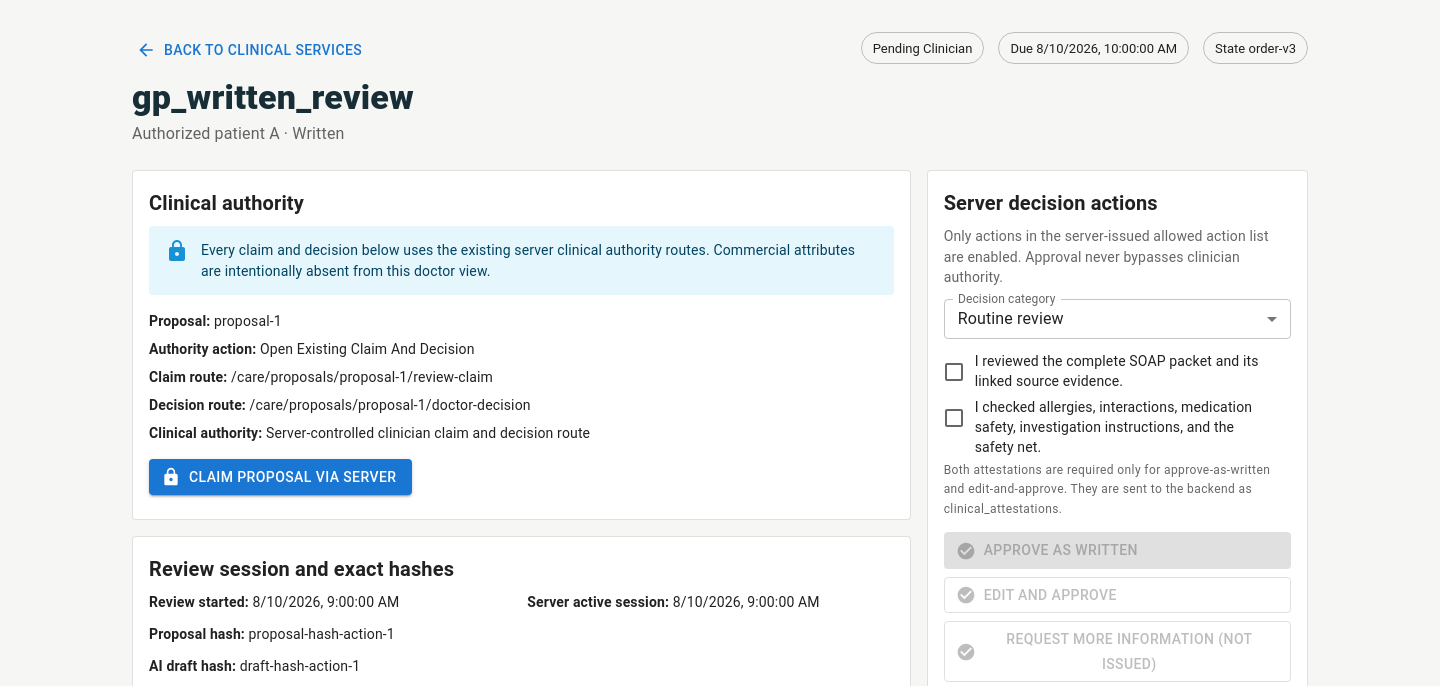
Test: DoctorClinicalServiceDetail › links approval to the existing decision route and sends exact server hashes
Check: the text "proposal-hash-action-1" is shown, box 249,626 -> 395,642
Check: the button "Approve As Written" is disabled, box 944,532 -> 1291,569
Click the checkbox labelled "reviewed the complete SOAP packet": (1104, 372) 933,350 -> 1275,392
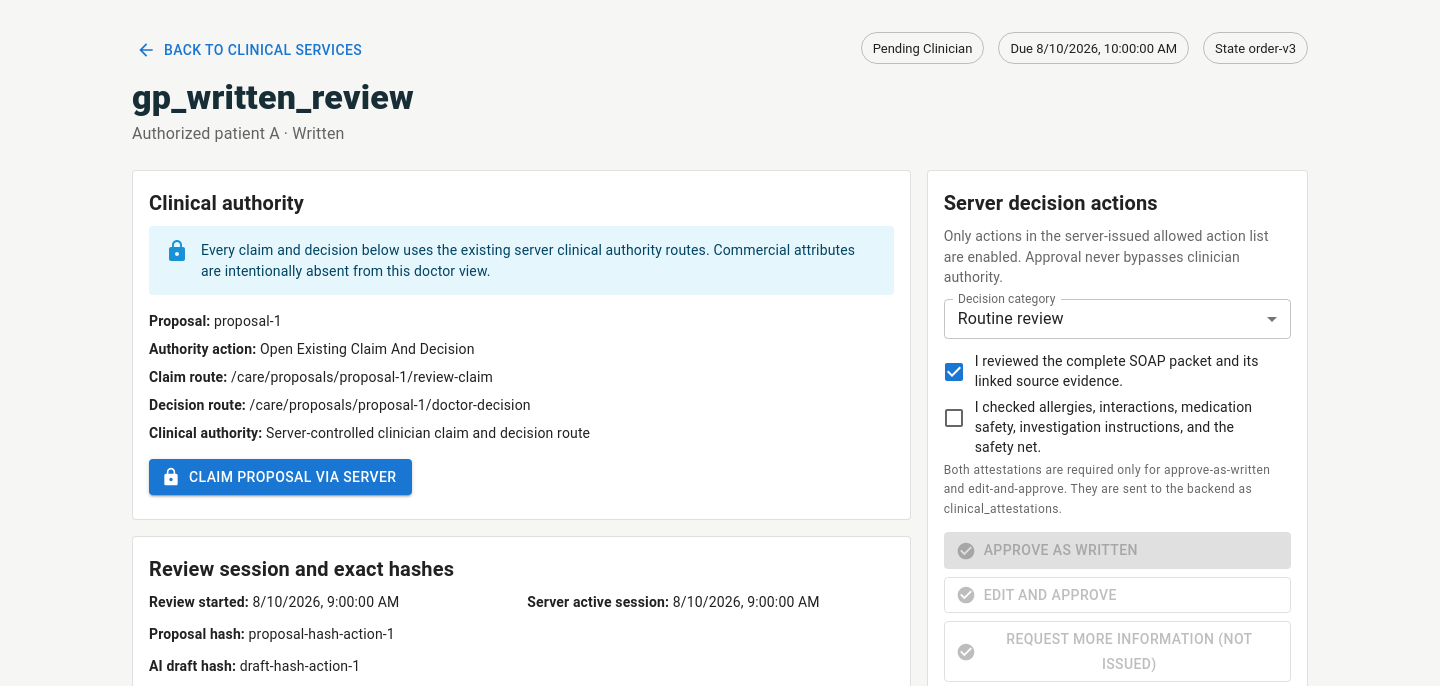
Click the checkbox labelled "checked allergies, interactions": (1104, 426) 933,396 -> 1275,456
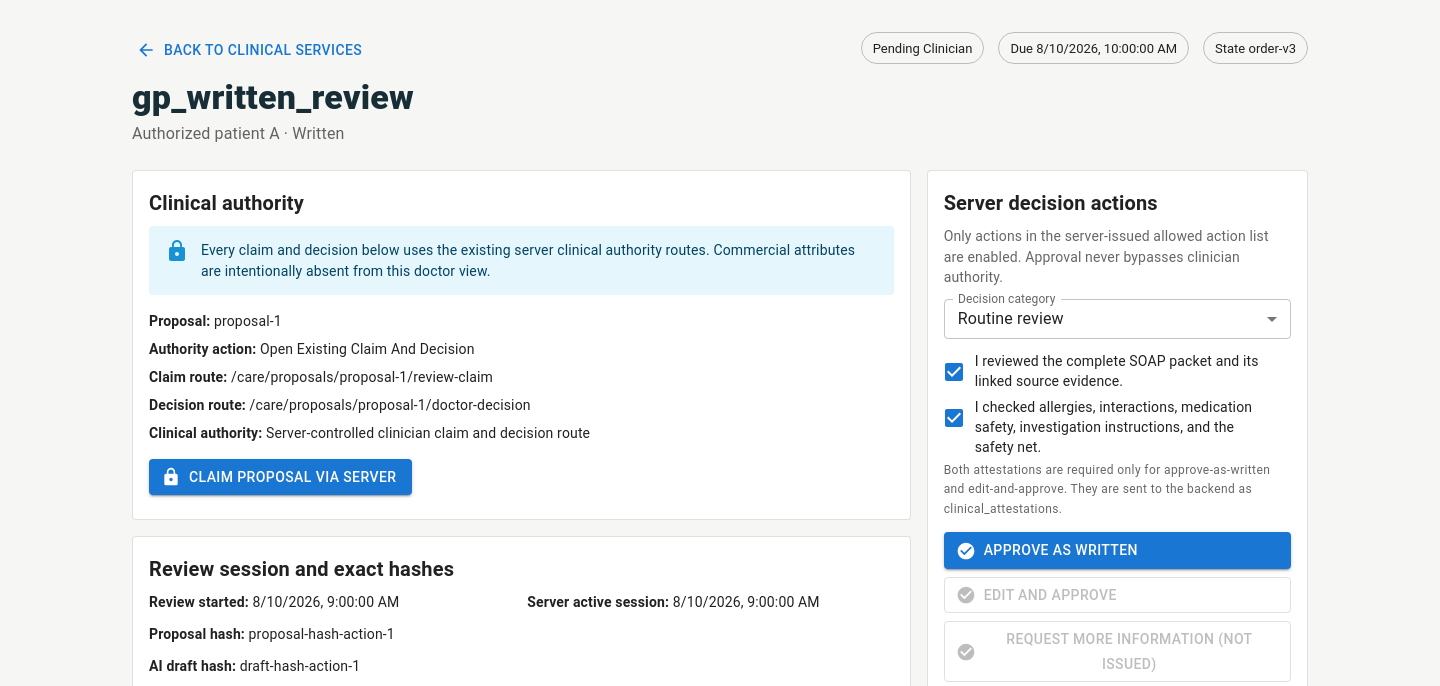
Check: the button "Approve As Written" is enabled
Click the button "Approve As Written": (1117, 551) 944,532 -> 1291,569
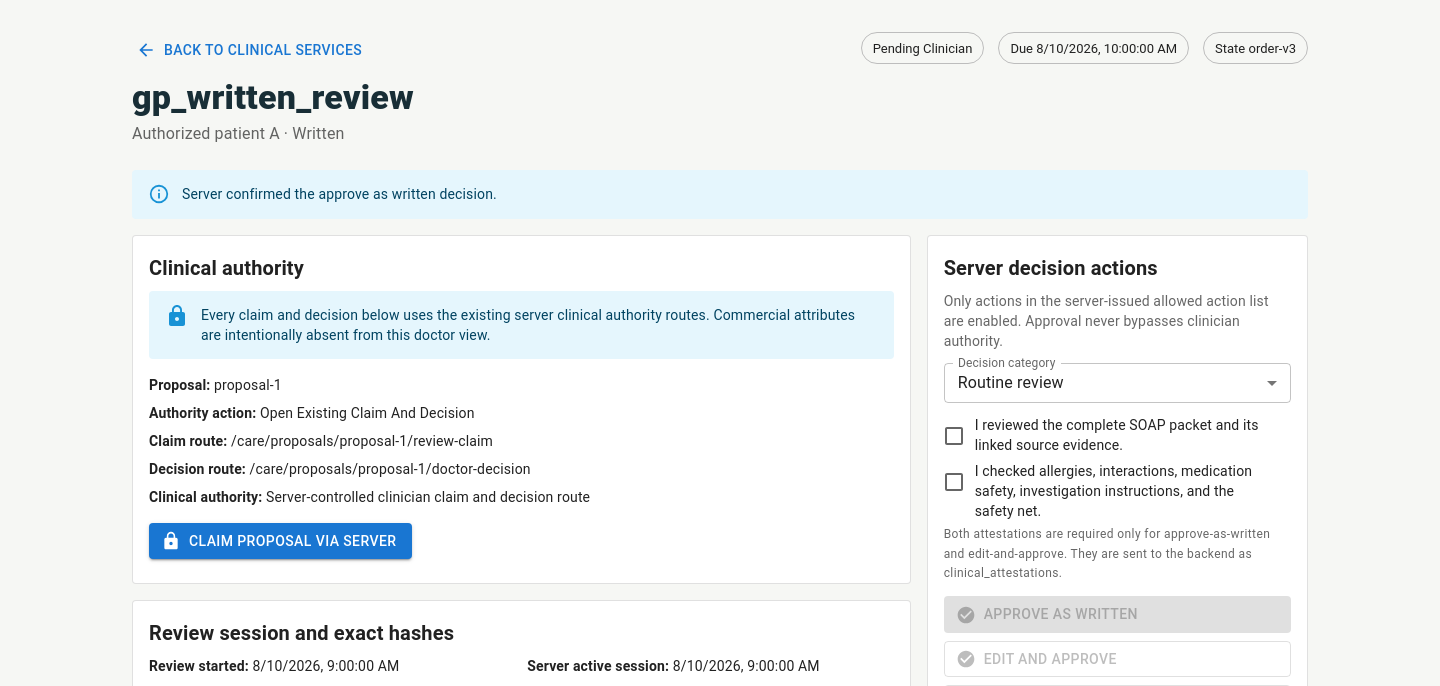
Check: the text "Server confirmed the approve as written decision." is shown, box 182,186 -> 497,202
